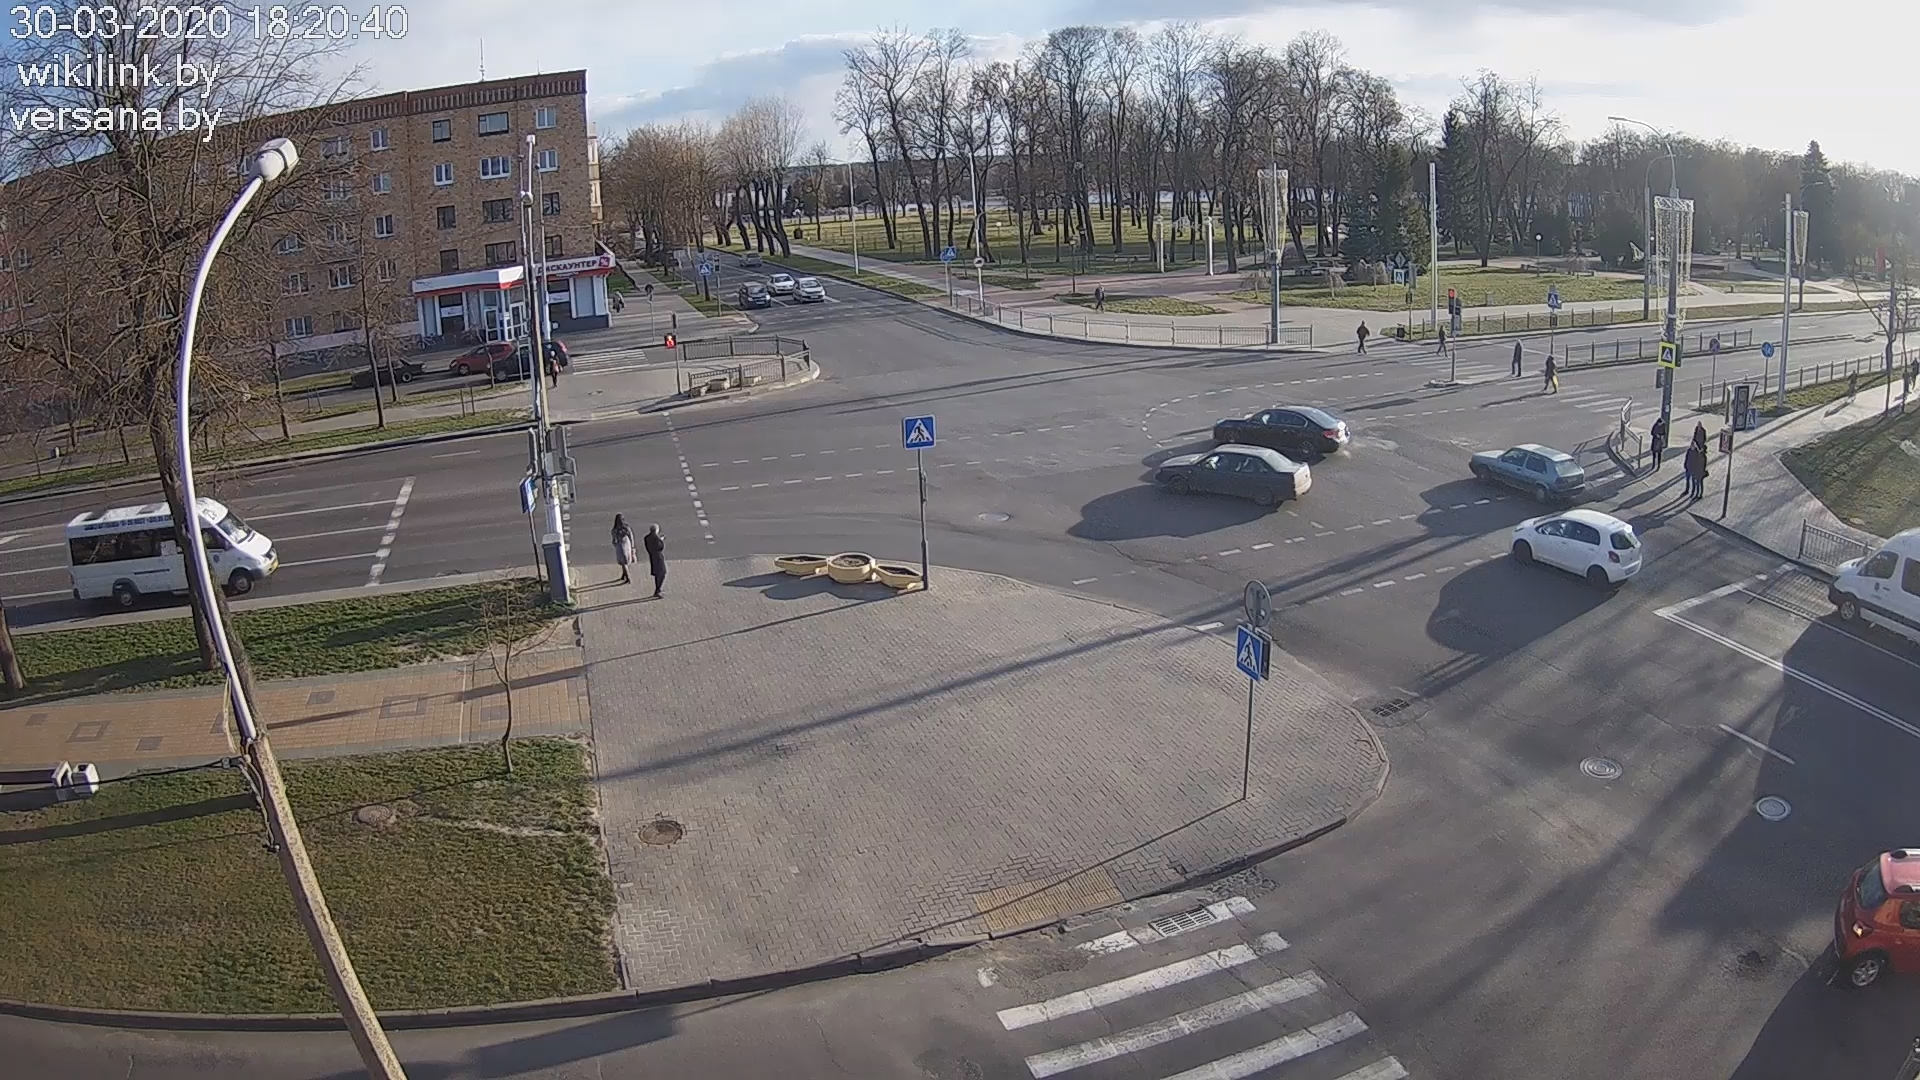car: (65, 496, 277, 607), (1513, 508, 1644, 588), (1155, 442, 1312, 506), (1215, 405, 1352, 459), (1469, 443, 1585, 504), (487, 340, 568, 382), (351, 353, 426, 386), (448, 340, 514, 376), (738, 281, 771, 309), (793, 277, 825, 303), (767, 272, 796, 295)
